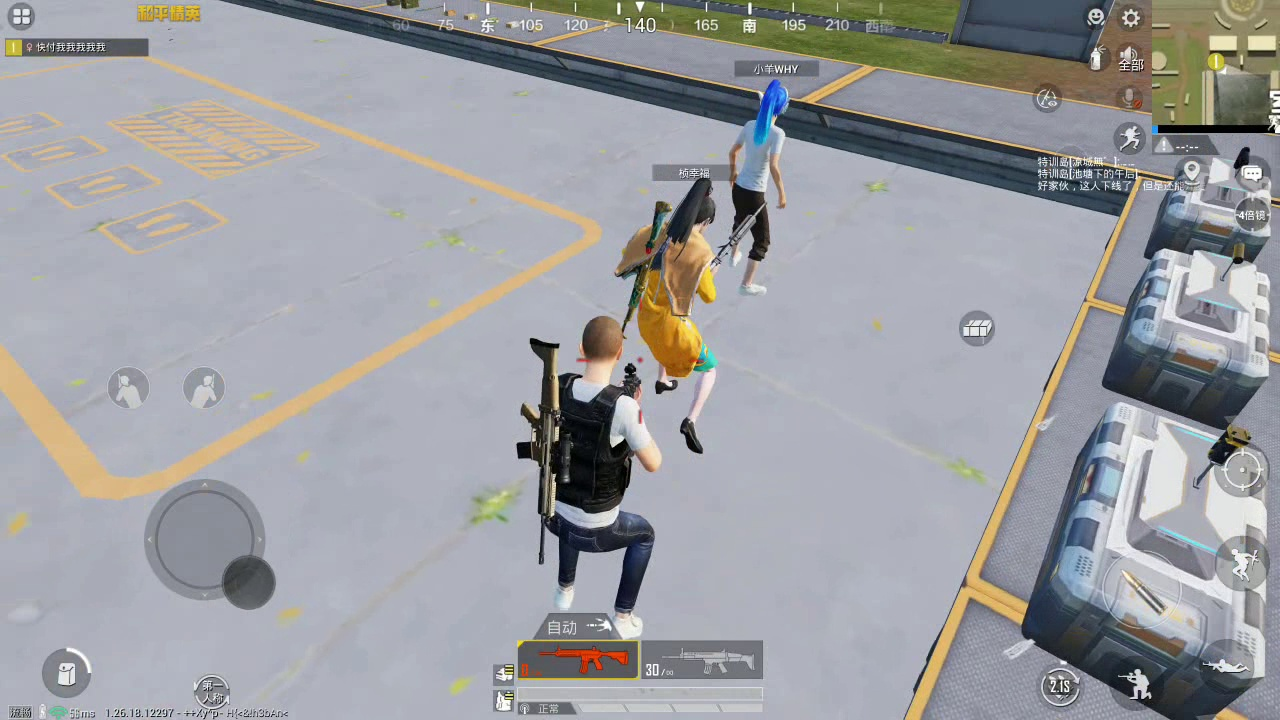enemy: (620, 176, 712, 452), (728, 75, 784, 298)
